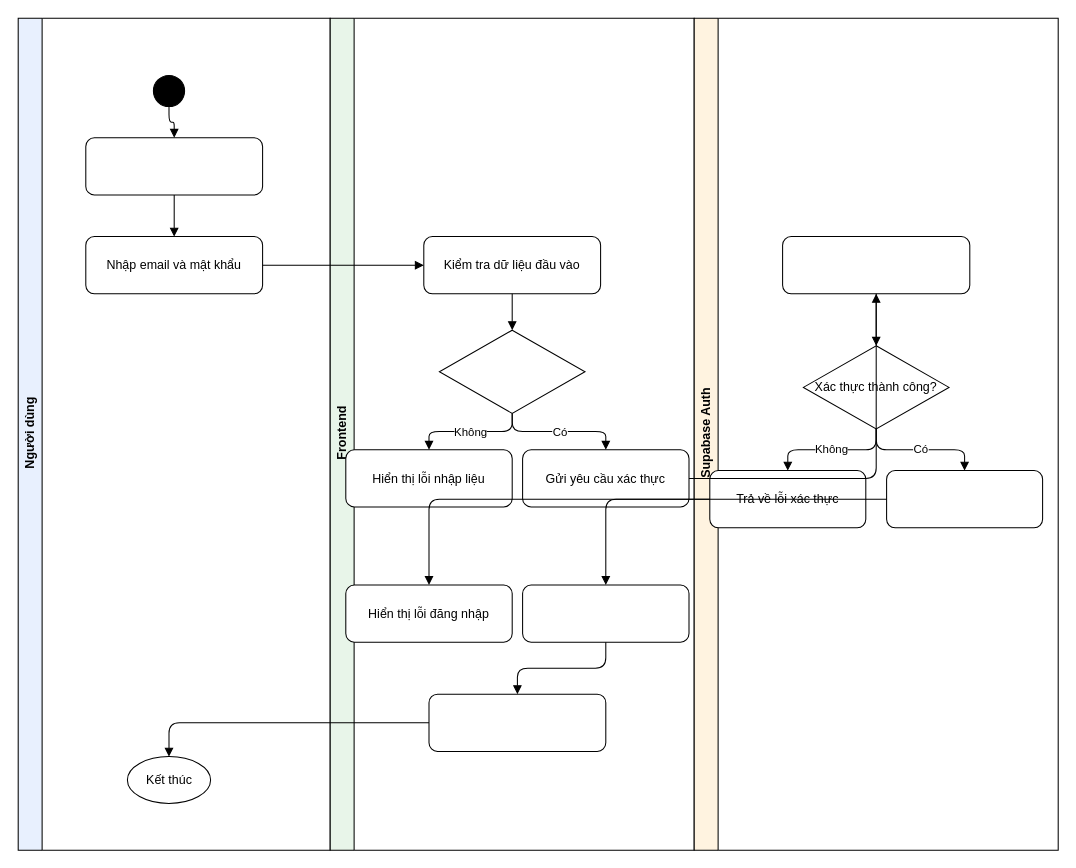
The diagram is 1076 pixels wide and 868 high, and some of its shapes have lost their labels. The centre of each missing label's shape, as x and y in pixels:
"Chọn đăng ký hoặc đăng nhập" goes at point 174,166.
"Dữ liệu hợp lệ?" goes at point 511,371.
"Lưu phiên người dùng" goes at point 605,613.
"Trả về phiên và token" goes at point 964,499.
"Điều hướng vào hệ thống" goes at point 517,722.
"Đăng ký / đăng nhập tài khoản" goes at point 876,265.
